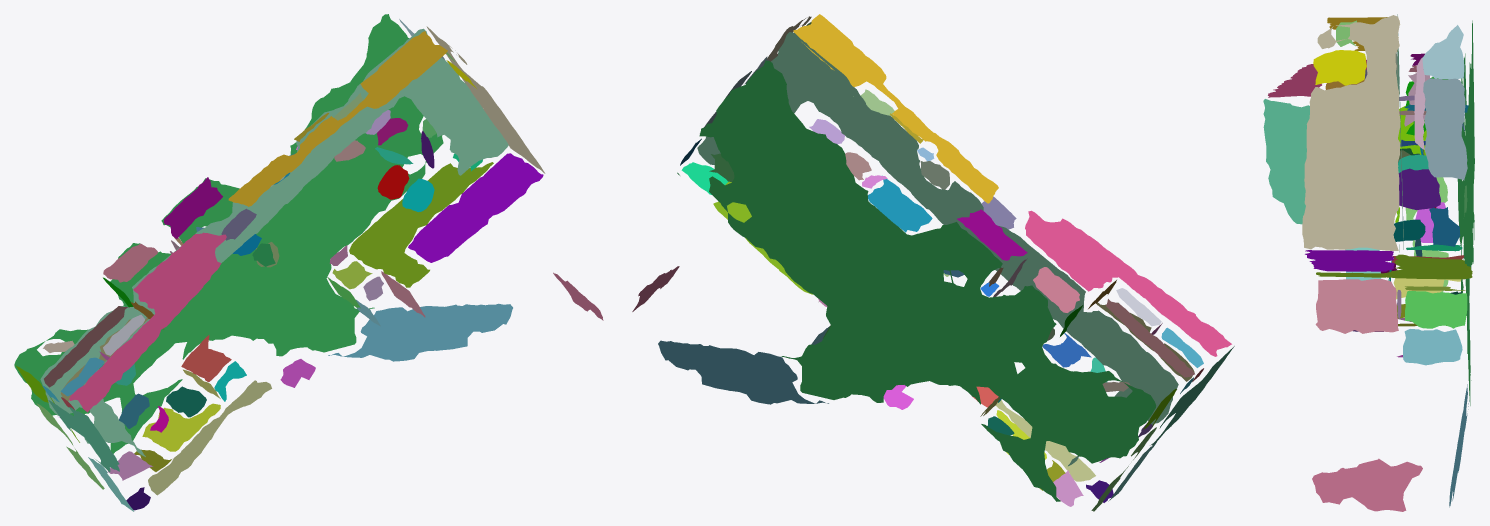
Rendered from pips_scene0131.glb.
3 views of the same model, side by side, from view 1: azimuth 30°, elevation 25°; view 2: azimuth 150°, elevation 25°; view 3: azimuth 270°, elevation 25° (orthographic). The views are drawn at different scales.
Bounding box in the file's own units: 8.69 × 6.11 × 2.31.
